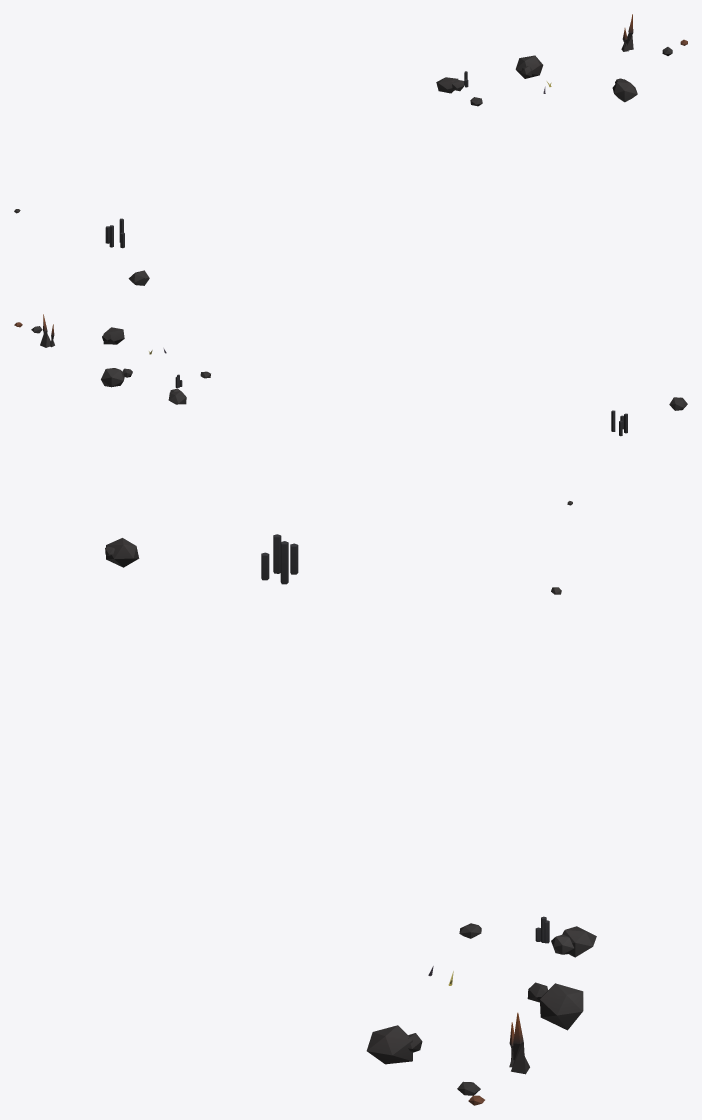
File: ash_land_scatter_c19_28_lod1.glb
The picture shows the model from 3 angles, top to bottom: view 1: azimuth 30°, elevation 25°; view 2: azimuth 150°, elevation 25°; view 3: azimuth 270°, elevation 25°; orthographic projection. The views are drawn at different scales.
Visible parts, largest first — view 1: ash_land_scatter_c19_28_lod1; view 2: ash_land_scatter_c19_28_lod1; view 3: ash_land_scatter_c19_28_lod1.
Boxes of the visible parts, bbox=[...] form: ash_land_scatter_c19_28_lod1: bbox=[14, 14, 687, 285]; ash_land_scatter_c19_28_lod1: bbox=[14, 314, 687, 505]; ash_land_scatter_c19_28_lod1: bbox=[105, 534, 596, 1105].
Bounding box in the file's own units: 234 × 20.1 × 85.43.
